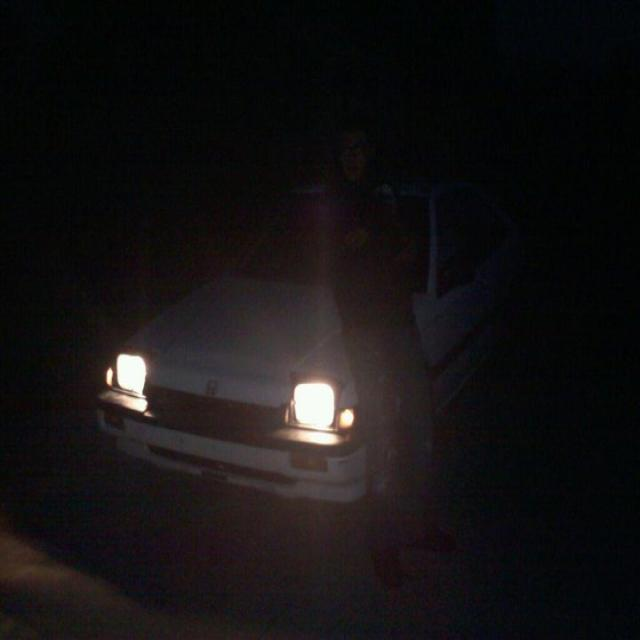People: (311, 122, 458, 574)
car: (57, 145, 571, 589)
